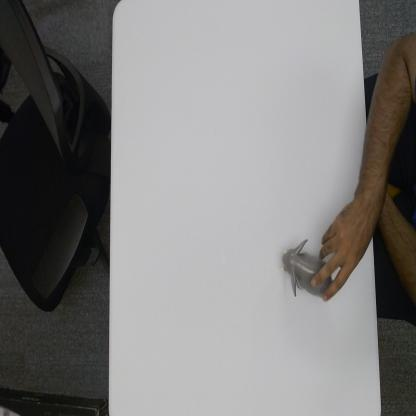Elephant: (281, 235, 334, 300)
Hand: (310, 197, 374, 300)
